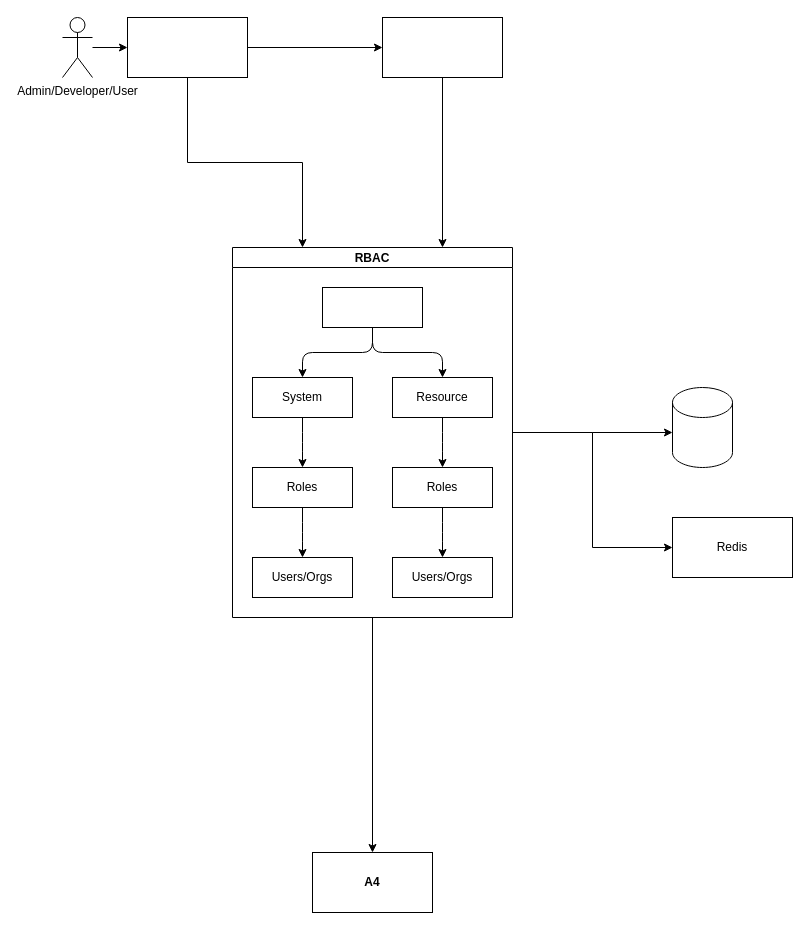
This 810x930 diagram has some shape labels left out. Each missing label, with the box of its shape:
API Server: (382, 16, 502, 78)
DB: (672, 386, 732, 468)
Permissions: (322, 286, 422, 328)
Platform FE: (126, 16, 248, 78)
